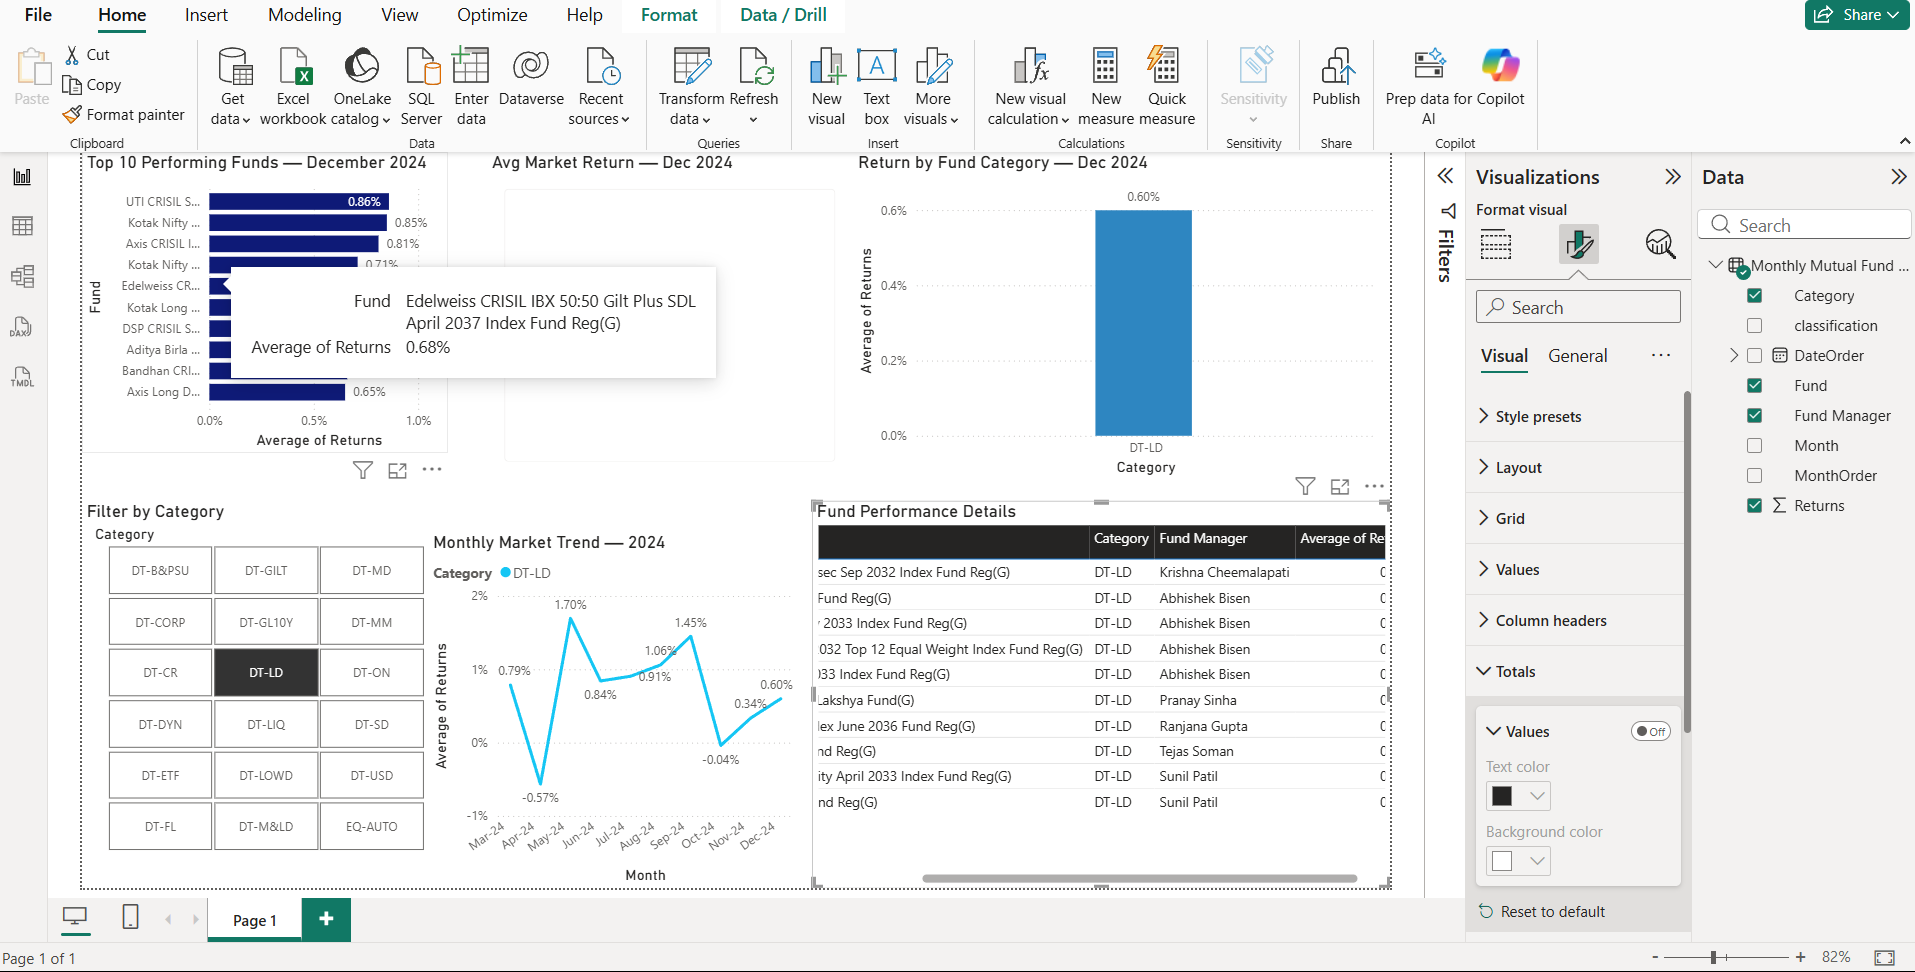

The dashboard page shown, as its layout file describes it:
{"tool":"powerbi","page":{"name":"Page 1","canvas":[1280,720],"ordinal":0},"visuals":[{"type":"clusteredBarChart","title":"Top 10 Performing Funds — December 2024","fields":{"Category":["Monthly Mutual Fund Returns 2024.Fund"],"Y":["Avg(Monthly Mutual Fund Returns 2024.Returns)"]},"box":[0,0,358.3,294.7],"z":0},{"type":"cardVisual","title":"Avg Market Return — Dec 2024","fields":{"Data":["Avg(Monthly Mutual Fund Returns 2024.Returns)"]},"box":[396.6,0,358.1,321.1],"z":1},{"type":"clusteredColumnChart","title":"Return by Fund Category — Dec 2024","fields":{"Category":["Monthly Mutual Fund Returns 2024.Category"],"Y":["Avg(Monthly Mutual Fund Returns 2024.Returns)"]},"box":[754.5,0,516,321.6],"z":2},{"type":"slicer","title":"Filter by Category","fields":{"Values":["Monthly Mutual Fund Returns 2024.Category"]},"box":[0,341.2,358.3,348.5],"z":3},{"type":"lineChart","title":"Monthly Market Trend — 2024","fields":{"Category":["Monthly Mutual Fund Returns 2024.Month"],"Y":["Avg(Monthly Mutual Fund Returns 2024.Returns)"],"Series":["Monthly Mutual Fund Returns 2024.Category"]},"box":[338.7,371.7,362,348.5],"z":4},{"type":"tableEx","title":"Fund Performance Details","fields":{"Values":["Monthly Mutual Fund Returns 2024.Fund","Monthly Mutual Fund Returns 2024.Category","Monthly Mutual Fund Returns 2024.Fund Manager","Avg(Monthly Mutual Fund Returns 2024.Returns)"]},"box":[714.1,341.2,566.2,379.1],"z":5}]}

Visuals, with their boxes on the page's 1280x720 design canvas (x1, y1, x2, y2). These are canvas units, not pixel positions in the 1915x972 screenshot, which may show the page scaled, cropped or inside an application window:
"Top 10 Performing Funds — December 2024" clusteredBarChart: detection(0, 0, 358, 295)
"Avg Market Return — Dec 2024" cardVisual: detection(397, 0, 755, 321)
"Return by Fund Category — Dec 2024" clusteredColumnChart: detection(754, 0, 1270, 322)
"Filter by Category" slicer: detection(0, 341, 358, 690)
"Monthly Market Trend — 2024" lineChart: detection(339, 372, 701, 720)
"Fund Performance Details" tableEx: detection(714, 341, 1280, 720)
